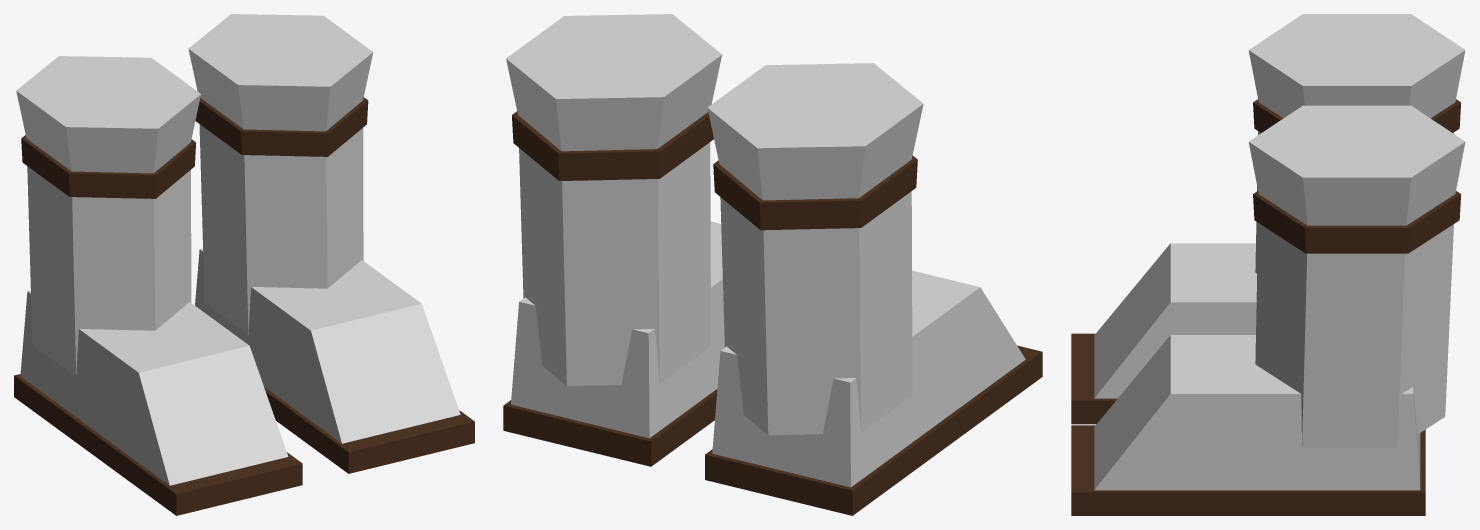
File: armor_boots.glb
The picture shows the model from 3 angles, left to right: view 1: azimuth 30°, elevation 25°; view 2: azimuth 150°, elevation 25°; view 3: azimuth 270°, elevation 25°; orthographic projection. The views are drawn at different scales.
Visible parts, largest first — view 1: armor_boots; view 2: armor_boots; view 3: armor_boots.
Part boxes in pixels (box(x1,y1,x2,y2)): armor_boots: box(14, 14, 474, 515); armor_boots: box(503, 14, 1042, 515); armor_boots: box(1071, 14, 1465, 515).
Size of the model in its own units: 0.2678 by 0.26 by 0.2725.
